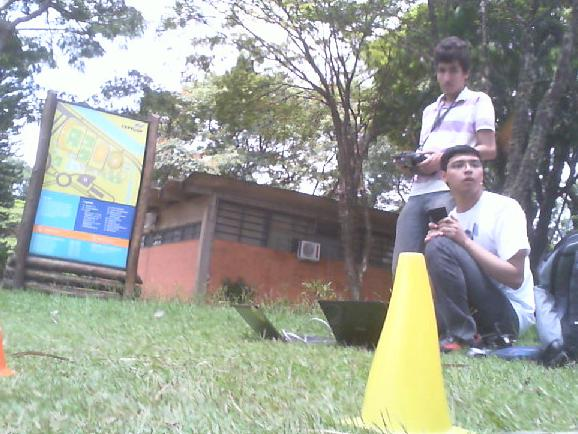0 cone: (339, 253, 467, 434), (0, 249, 13, 384)
